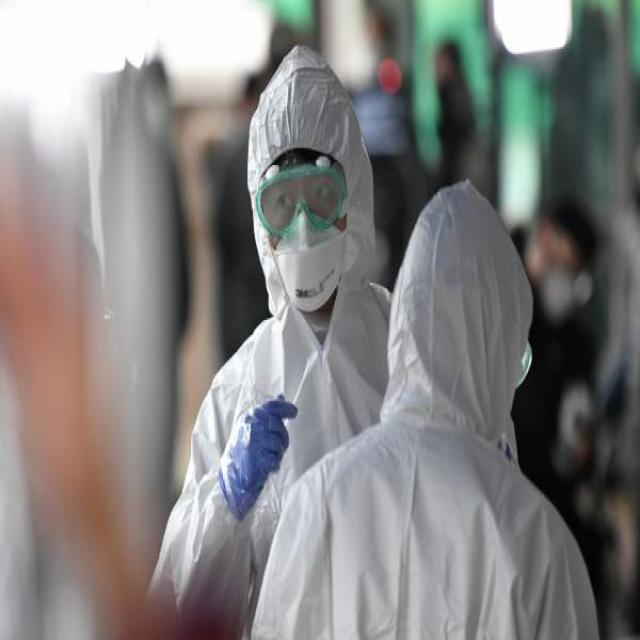Coverall: (251, 178, 596, 636), (156, 44, 387, 606)
Gloves: (220, 391, 298, 522)
Goggles: (254, 157, 348, 234)
Mask: (274, 212, 348, 313)
